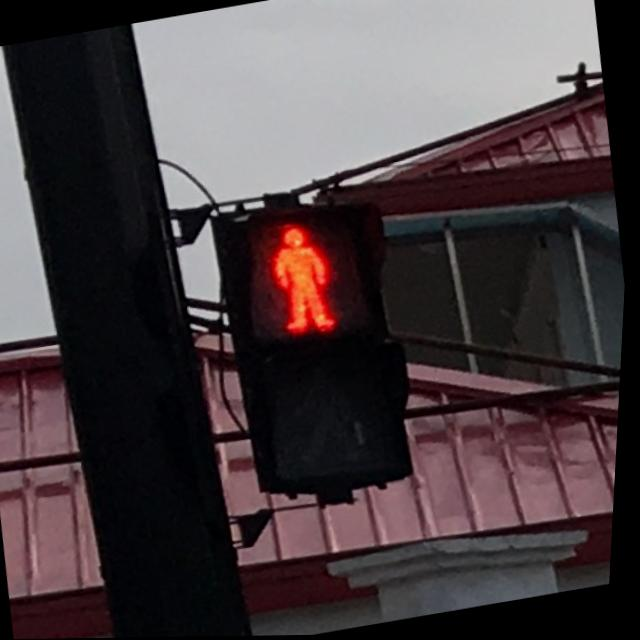red_light: (224, 194, 385, 347)
